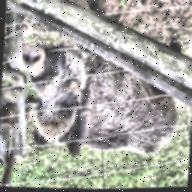boar: (20, 34, 188, 170)
